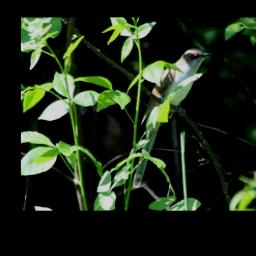Cuckoo: (132, 48, 215, 187)
